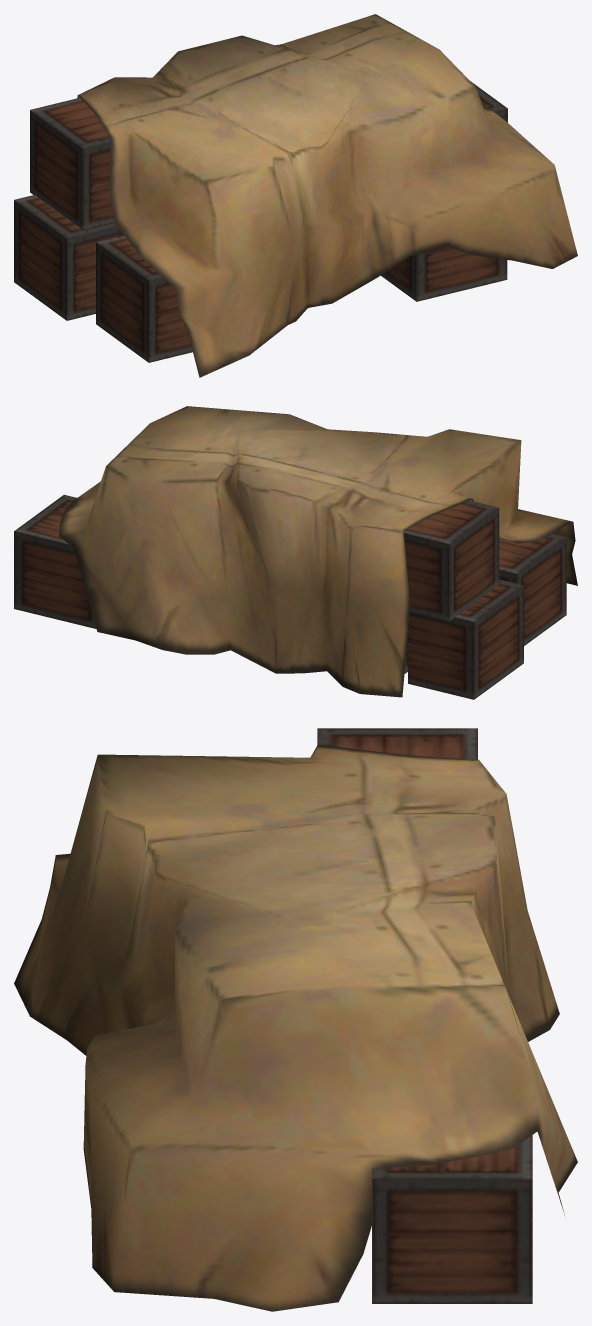
Rendered from 2_YiZhan_HuoWu_01.FBX.
The picture shows the model from 3 angles, top to bottom: view 1: azimuth 30°, elevation 25°; view 2: azimuth 150°, elevation 25°; view 3: azimuth 270°, elevation 25°; orthographic projection. The views are drawn at different scales.
Visible parts, largest first — view 1: 2_YiZhan_HuoWu_01; view 2: 2_YiZhan_HuoWu_01; view 3: 2_YiZhan_HuoWu_01.
Boxes of the visible parts, box(x1,y1,x2,y2) form: 2_YiZhan_HuoWu_01: box(14, 14, 577, 377); 2_YiZhan_HuoWu_01: box(14, 406, 577, 699); 2_YiZhan_HuoWu_01: box(14, 728, 577, 1311).
Bounding box in the file's own units: 483 × 175 × 327.
